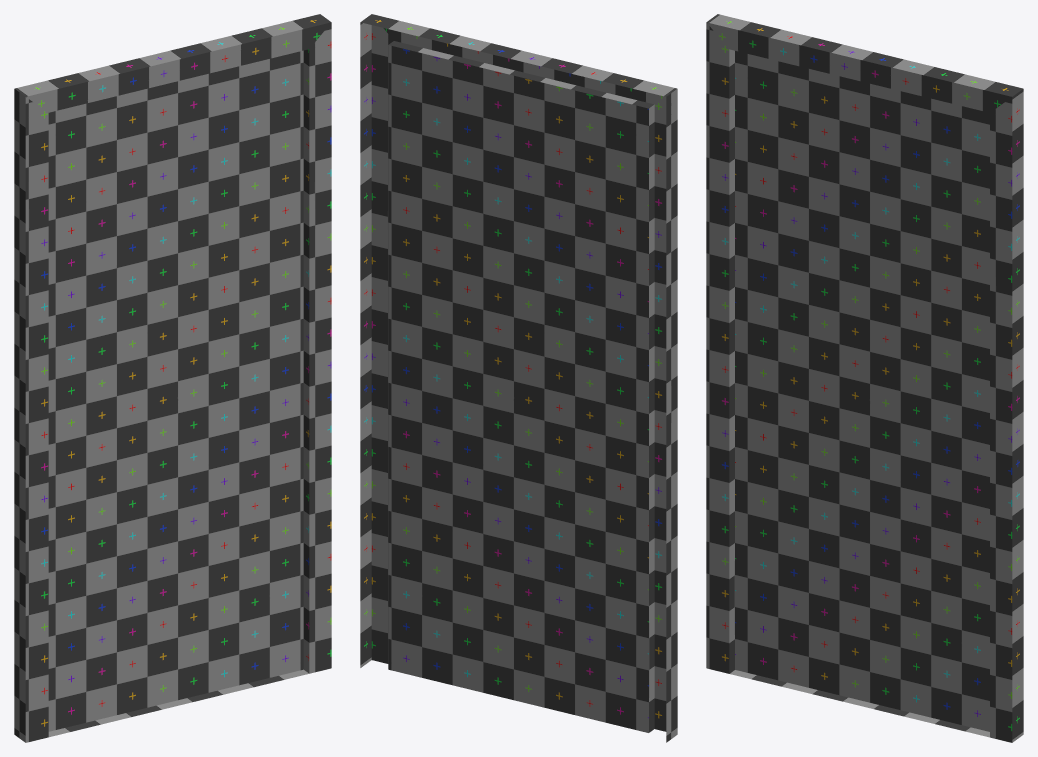
The model's file is scenario_prototype_interior_door_basement.fbx.
3 views of the same model, side by side, from view 1: azimuth 30°, elevation 25°; view 2: azimuth 150°, elevation 25°; view 3: azimuth 330°, elevation 25° (orthographic).
Visible parts, largest first — view 1: interior_door_basement; view 2: interior_door_basement; view 3: interior_door_basement.
Part boxes in pixels (box(x1,y1,x2,y2)): interior_door_basement: box(14, 14, 331, 742); interior_door_basement: box(360, 14, 677, 742); interior_door_basement: box(706, 14, 1023, 742).
Size of the model in its own units: 108 by 218 by 6.94.
